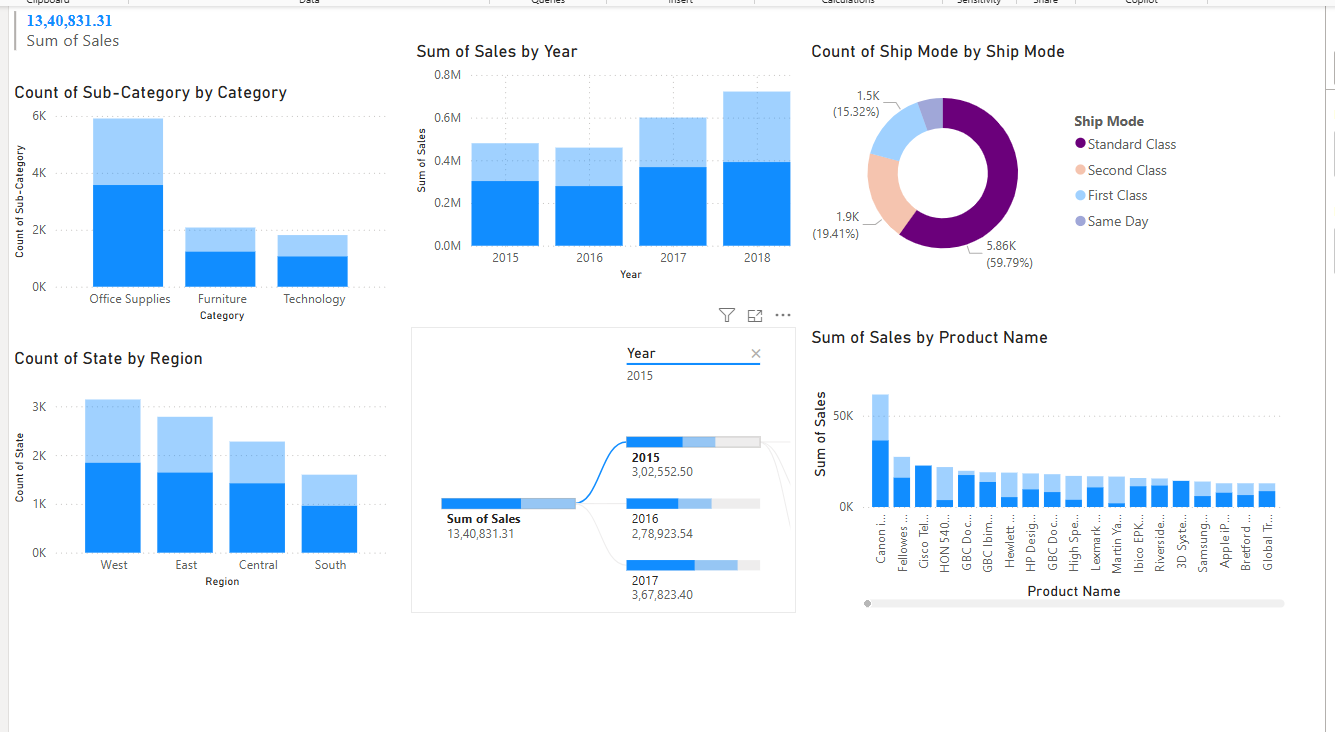

The page's visual inventory and layout, read from the dashboard file:
{"tool":"powerbi","page":{"name":"Page 1","canvas":[1280,720],"ordinal":0},"visuals":[{"type":"multiRowCard","fields":{"Values":["Sum(train.Sales)"]},"box":[0,0,215,67.1],"z":0},{"type":"columnChart","fields":{"Category":["train.Category"],"Y":["CountNonNull(train.Sub-Category)"]},"box":[0,73.9,374.5,238.3],"z":1},{"type":"columnChart","fields":{"Category":["train.Region"],"Y":["CountNonNull(train.State)"]},"box":[0,333,374,238],"z":2},{"type":"decompositionTreeVisual","fields":{"Analyze":["Sum(train.Sales)"],"ExplainBy":["train.Order Date.Variation.Date Hierarchy.Year","train.Order Date.Variation.Date Hierarchy.Month","train.Order Date.Variation.Date Hierarchy.Day","train.Order Date.Variation.Date Hierarchy.Quarter"]},"box":[391,312.2,374.5,278.2],"z":3},{"type":"columnChart","fields":{"Y":["Sum(train.Sales)"],"Category":["train.Order Date.Variation.Date Hierarchy.Year"]},"box":[391,34,374.5,238.3],"z":4},{"type":"donutChart","fields":{"Category":["train.Ship Mode"],"Y":["CountNonNull(train.Ship Mode)"]},"box":[775,34,374,238],"z":5},{"type":"columnChart","fields":{"Category":["train.Product Name"],"Y":["Sum(train.Sales)"]},"box":[775.2,312.2,470.8,278.2],"z":6}]}

Visuals, with their boxes on the page's 1280x720 design canvas (x1, y1, x2, y2). These are canvas units, not pixel positions in the 1335x732 screenshot, which may show the page scaled, cropped or inside an application window:
multiRowCard - Sum(train.Sales): <box>0,0,215,67</box>
columnChart - train.Category x CountNonNull(train.Sub-Category): <box>0,74,374,312</box>
columnChart - train.Region x CountNonNull(train.State): <box>0,333,374,571</box>
decompositionTreeVisual - Sum(train.Sales) x train.Order Date.Variation.Date Hierarchy.Year: <box>391,312,766,590</box>
columnChart - Sum(train.Sales) x train.Order Date.Variation.Date Hierarchy.Year: <box>391,34,766,272</box>
donutChart - train.Ship Mode x CountNonNull(train.Ship Mode): <box>775,34,1149,272</box>
columnChart - train.Product Name x Sum(train.Sales): <box>775,312,1246,590</box>
